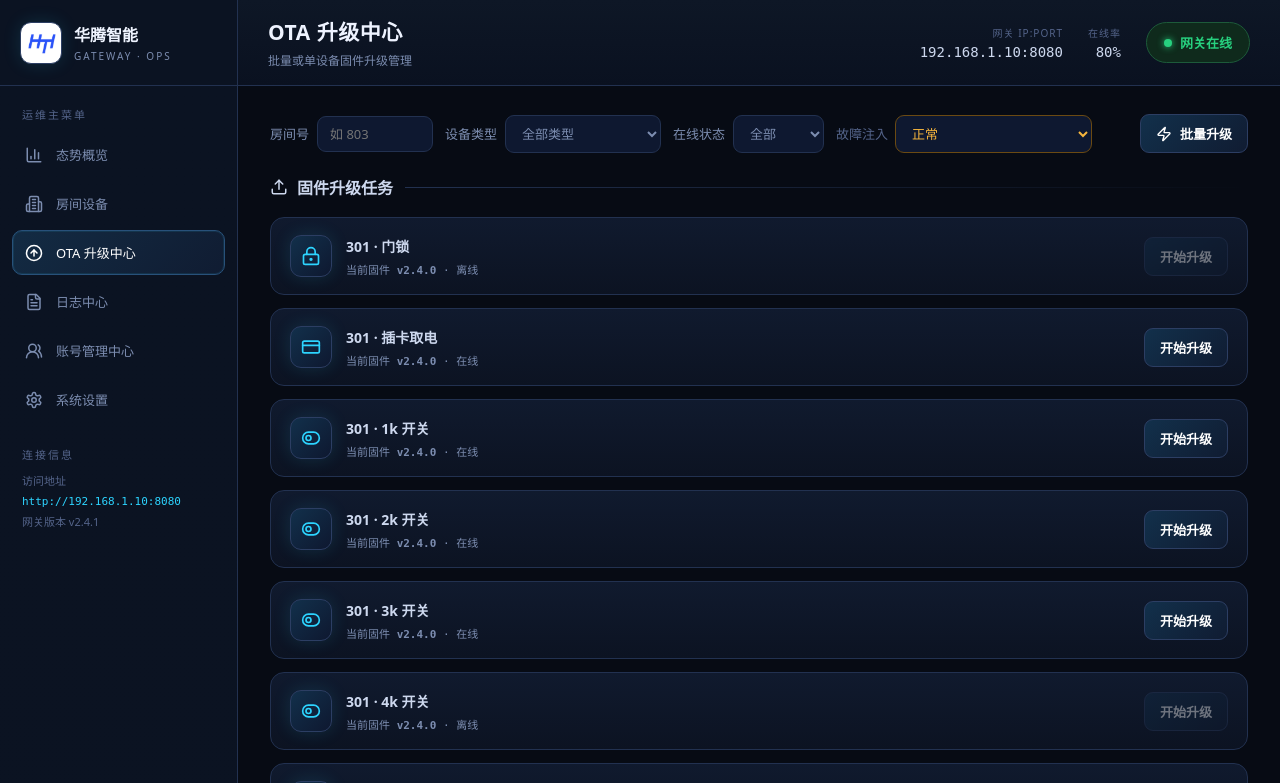
Test: App › renders the OTA view with each device firmware and the toolbar filters
Select "离线" in the dropdown labelled "在线状态" at (778, 134), box left=733, top=114, right=824, bottom=152
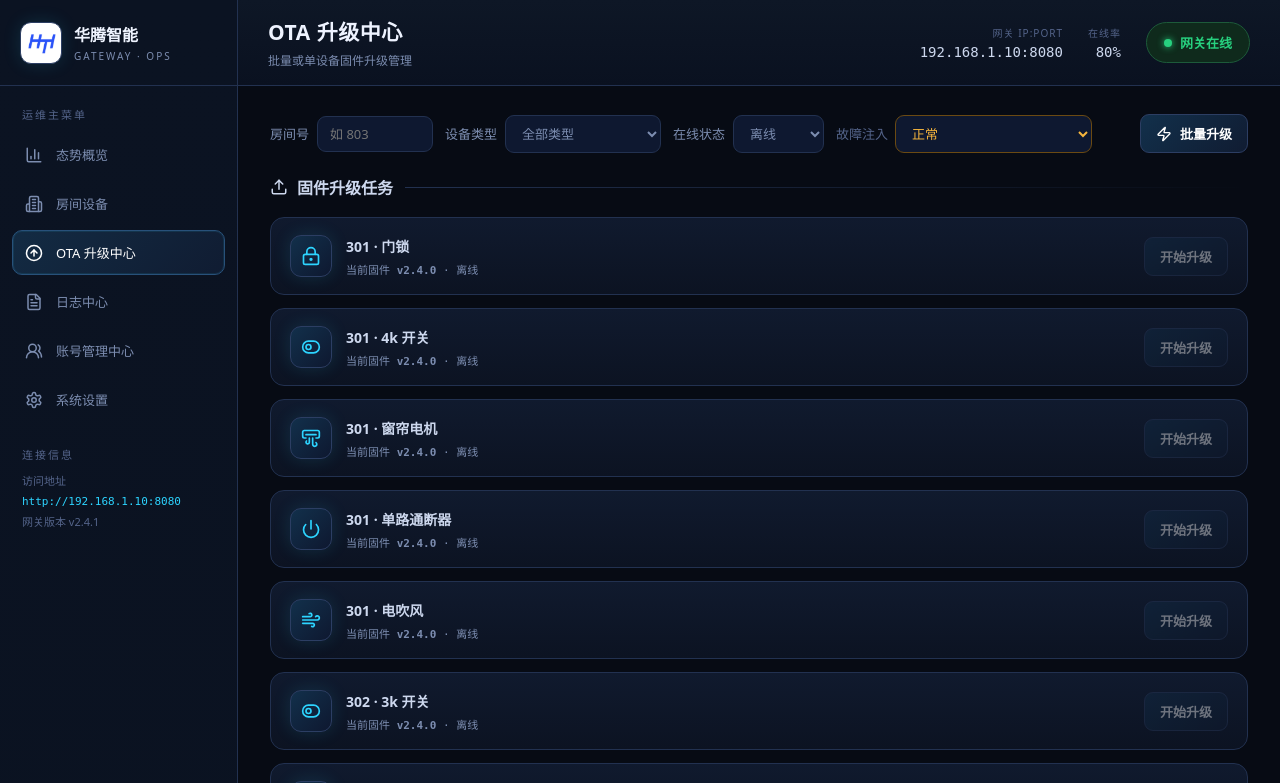
Check: the element with class "toolbar" shows "房间号", box left=270, top=125, right=309, bottom=143
Check: the number of elements with class "ota-item" is 123
Select "全部" in the dropdown labelled "在线状态" at (778, 134), box left=733, top=114, right=824, bottom=152
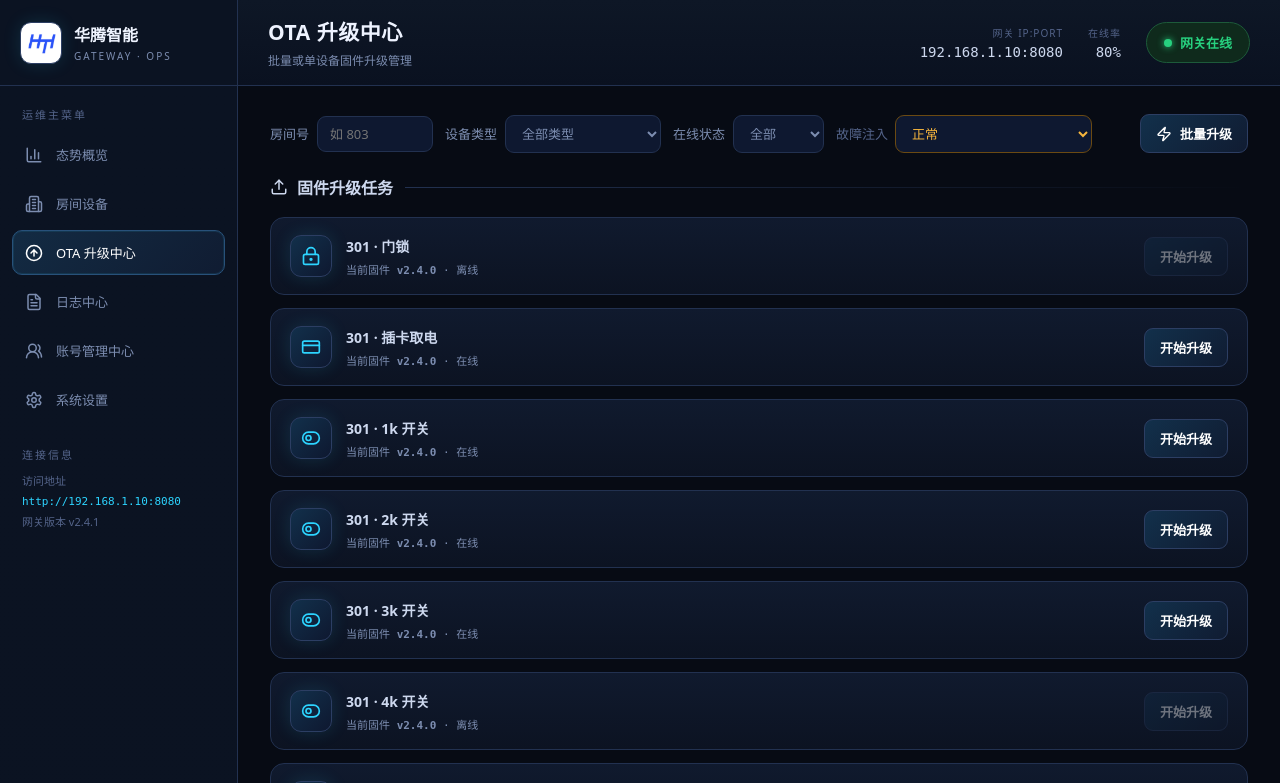
Type "803" into the field labelled "房间号" at (375, 134), box left=330, top=116, right=420, bottom=150
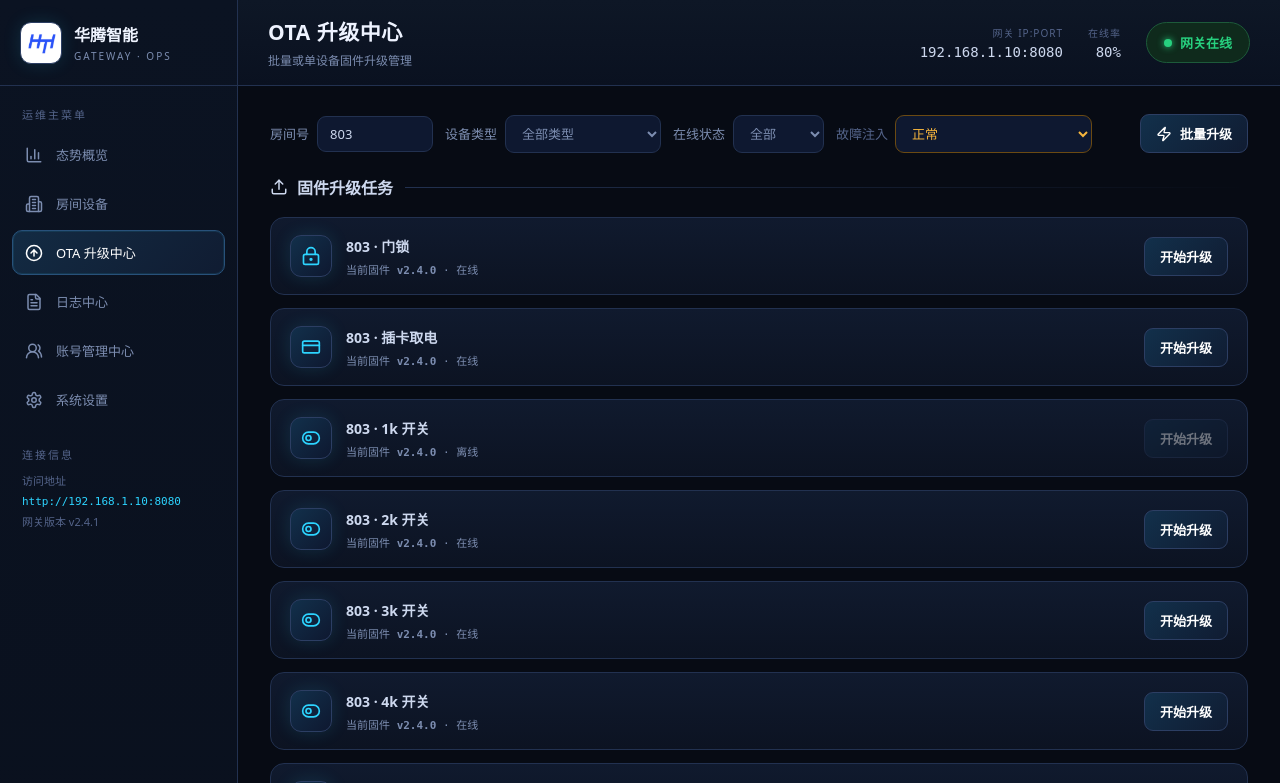
Check: the number of elements with class "ota-item" is 22
